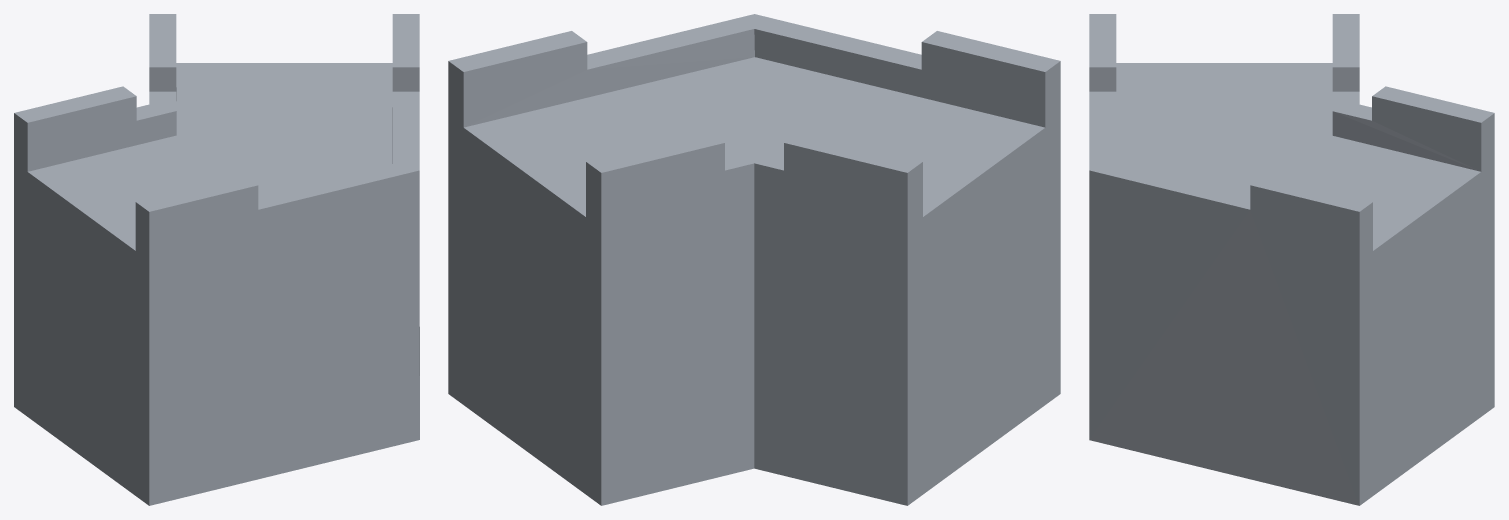
The model's file is wall_top_corner1.fbx.
3 renders of one model, left to right at view 1: azimuth 30°, elevation 25°; view 2: azimuth 150°, elevation 25°; view 3: azimuth 270°, elevation 25°, orthographic. The views are drawn at different scales.
Parts seen in each view (by area): view 1: Cylinder; view 2: Cylinder; view 3: Cylinder.
Part boxes in pixels (x1=…): Cylinder: x1=14, y1=14, x2=419, y2=505; Cylinder: x1=448, y1=14, x2=1060, y2=505; Cylinder: x1=1089, y1=14, x2=1494, y2=505.
Bounding box in the file's own units: 1.73 × 1.2 × 1.5.
